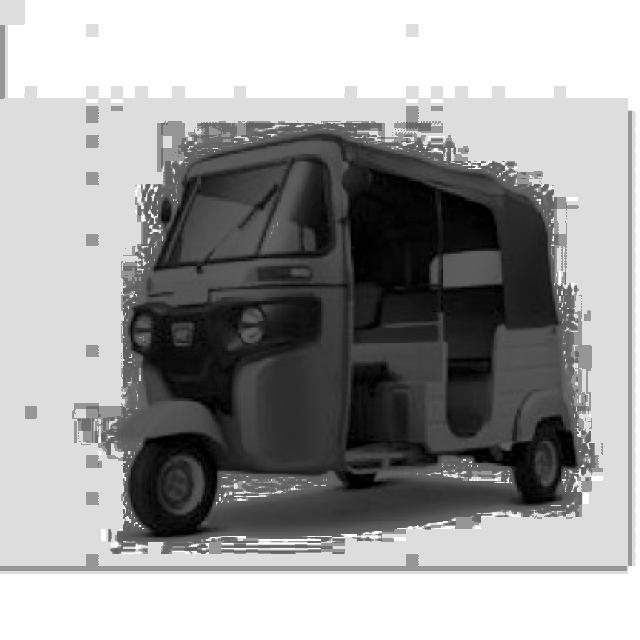Auto-Rickshaw: (103, 131, 595, 558)
